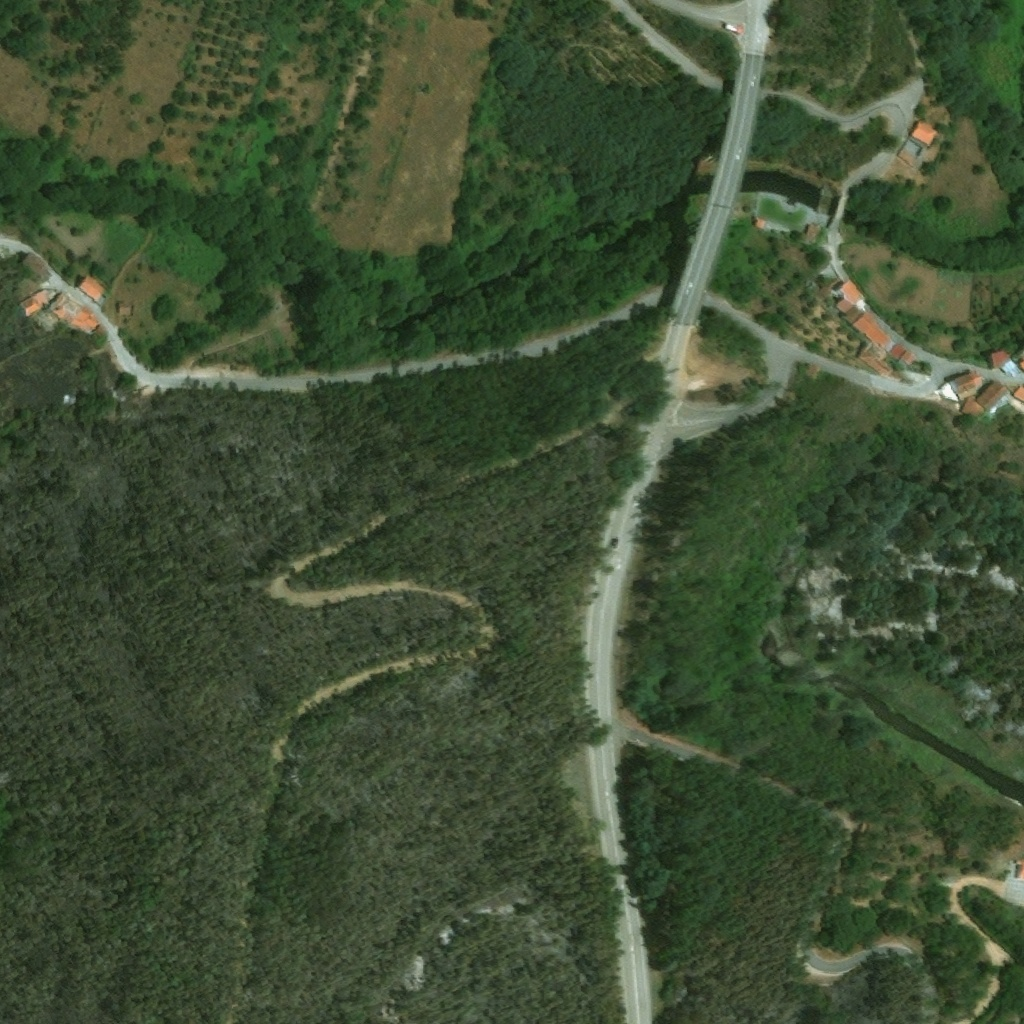0 no-damage: (834, 278, 896, 370), (47, 292, 98, 339), (960, 379, 1009, 418), (948, 371, 985, 395), (17, 290, 49, 317), (18, 251, 47, 279), (908, 119, 938, 146), (76, 275, 105, 302), (992, 347, 1017, 373), (801, 224, 820, 246), (899, 350, 916, 366), (114, 303, 132, 316), (1014, 861, 1023, 881), (751, 220, 764, 232)
4 un-classified: (1013, 385, 1023, 403)
